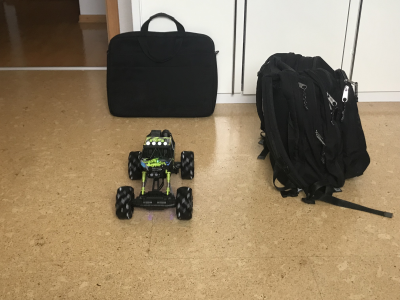remote control car: (113, 126, 197, 224)
